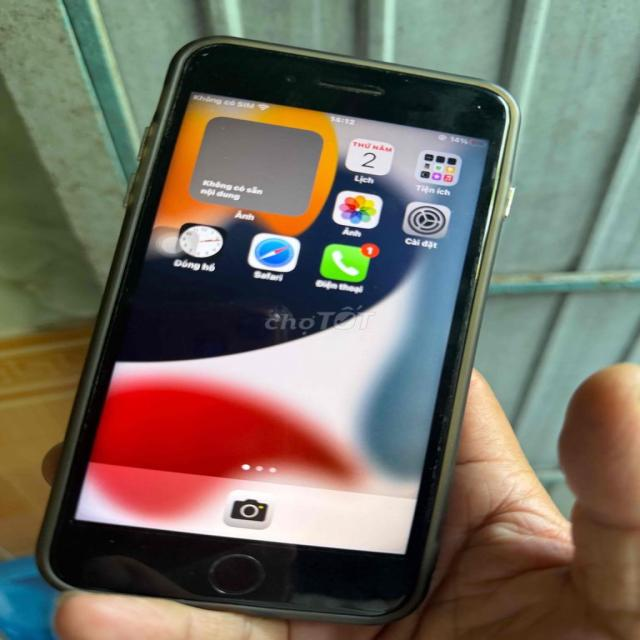gen_7_8: (30, 33, 533, 629), (447, 218, 494, 352), (171, 39, 223, 80), (466, 92, 492, 116)
